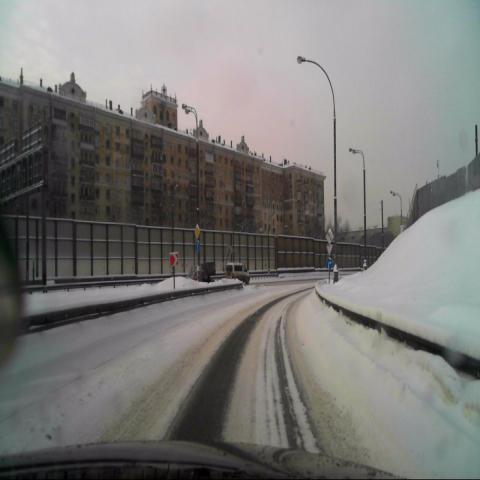2_1: (194, 222, 200, 238)
2_2: (325, 228, 333, 244)
2_4: (326, 245, 332, 256)
4_1_2: (326, 258, 332, 270)
